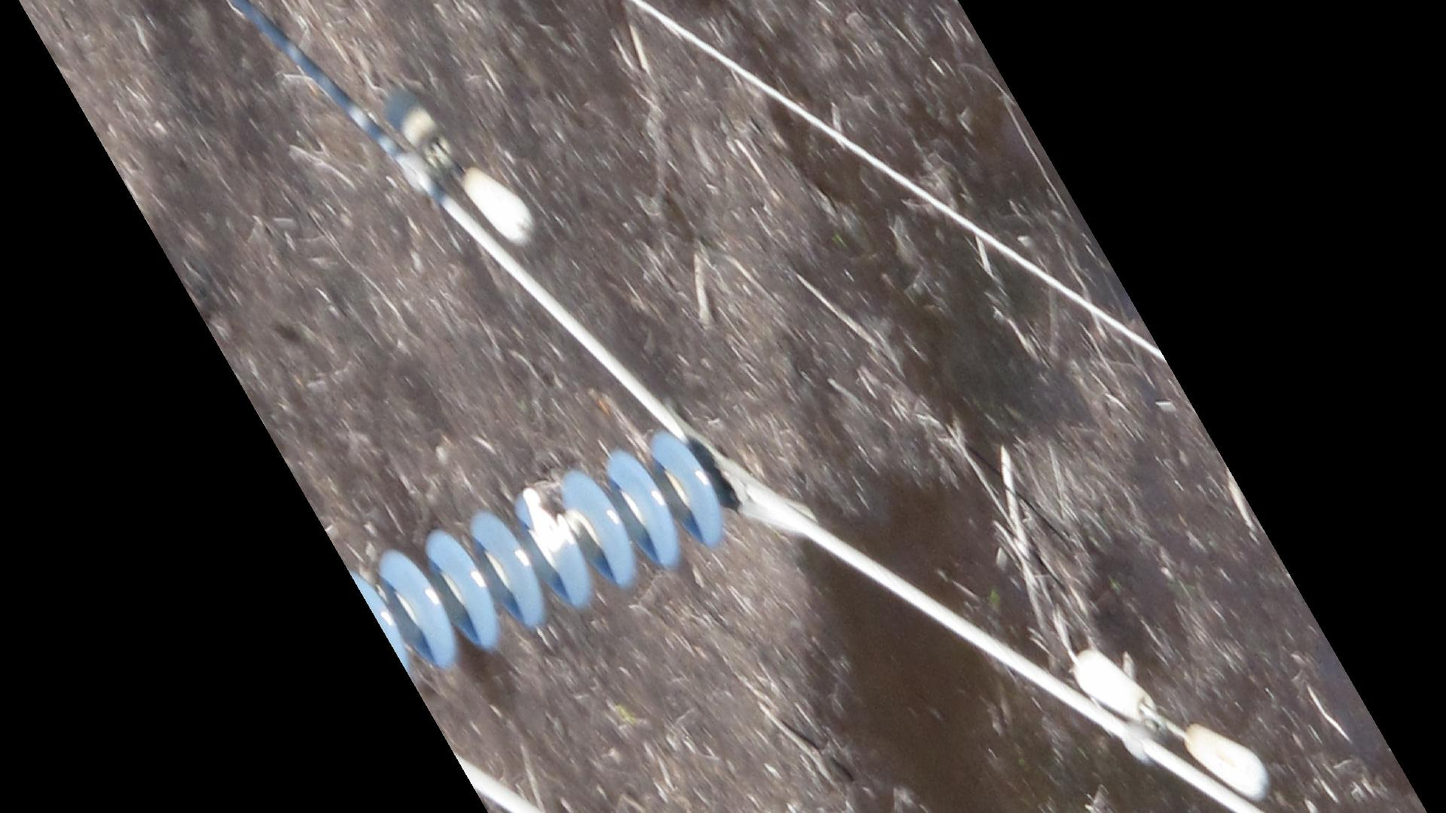insulator: (344, 426, 732, 665)
insulator_breakage: (515, 481, 578, 560)
